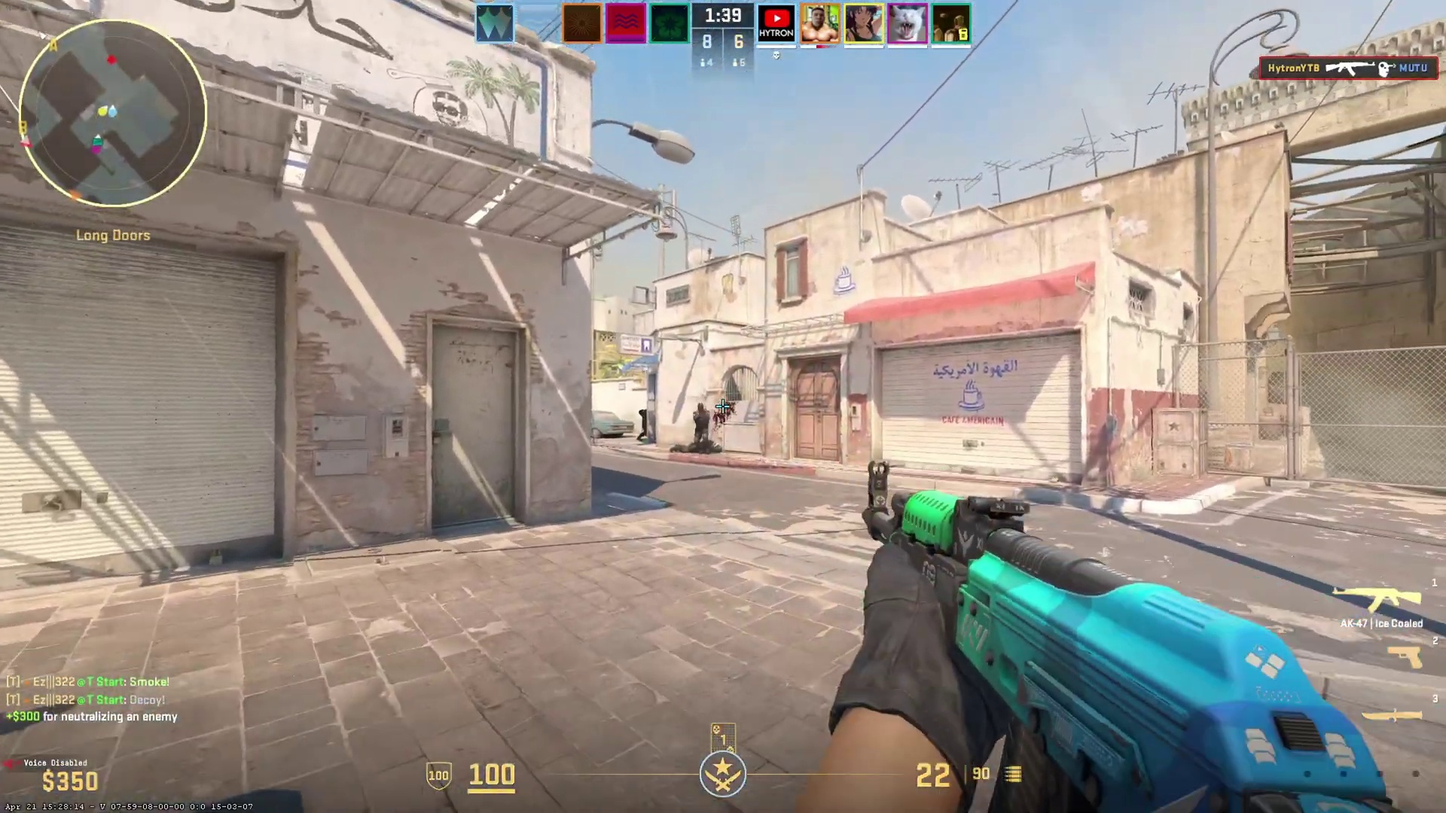CT: (693, 403, 710, 454), (637, 409, 647, 441)
